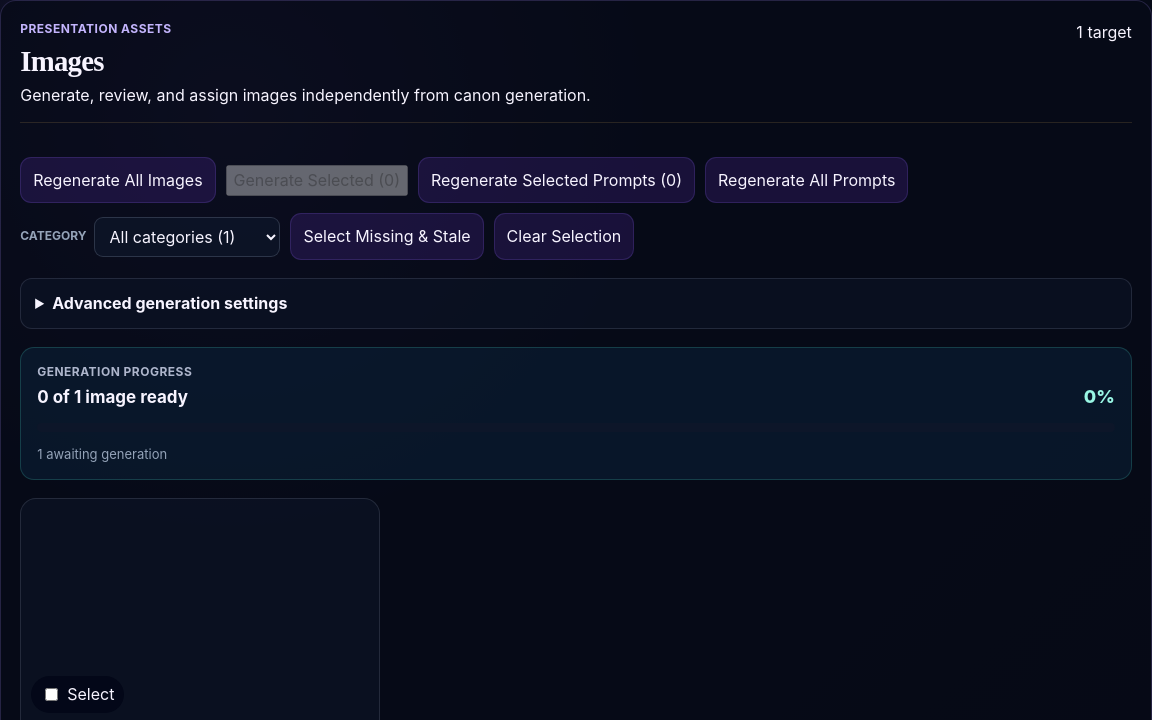
Test case: RpgWorldImagesPanel › bulk selects missing targets and queues independent image jobs
Expected: the text "1 awaiting generation" is shown, 37,444 -> 167,464
Expected: the dropdown named "Image category" shows "All categories (1)", 94,217 -> 280,257
Click the button "Select Missing & Stale" at (387, 237), box 290,213 -> 484,260
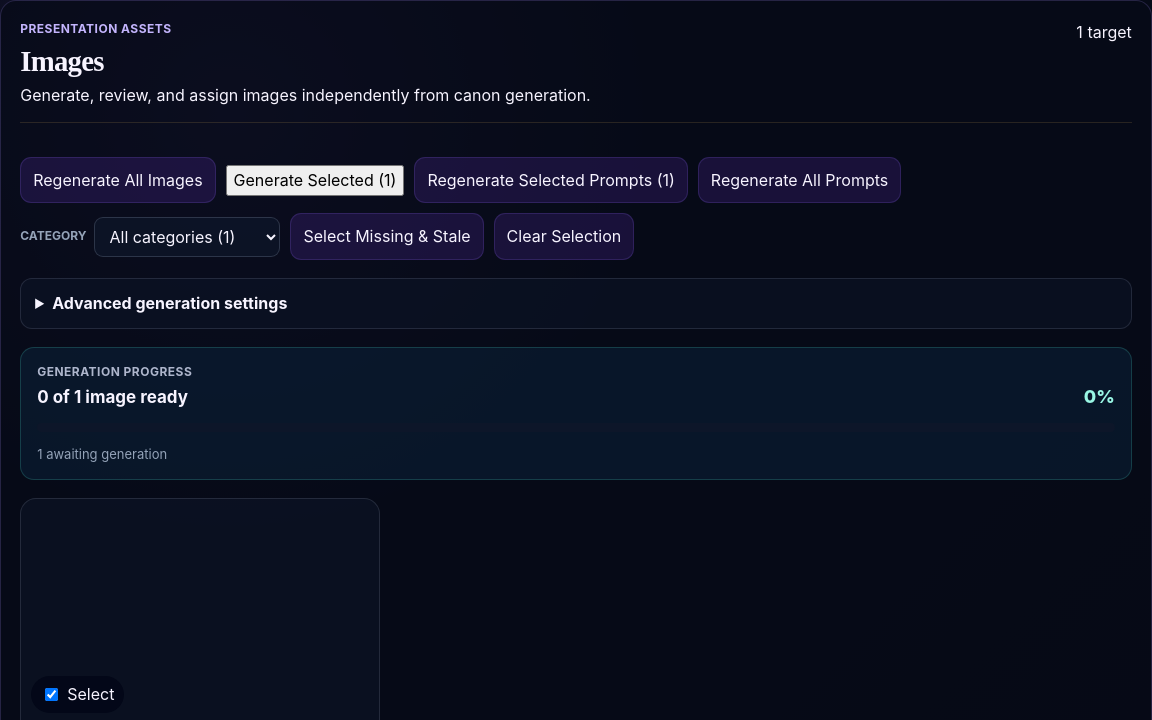
Expected: the button "Generate Selected (1)" is enabled, 226,165 -> 404,196
Click the heading "Advanced generation settings" at (170, 303), box 52,293 -> 287,313
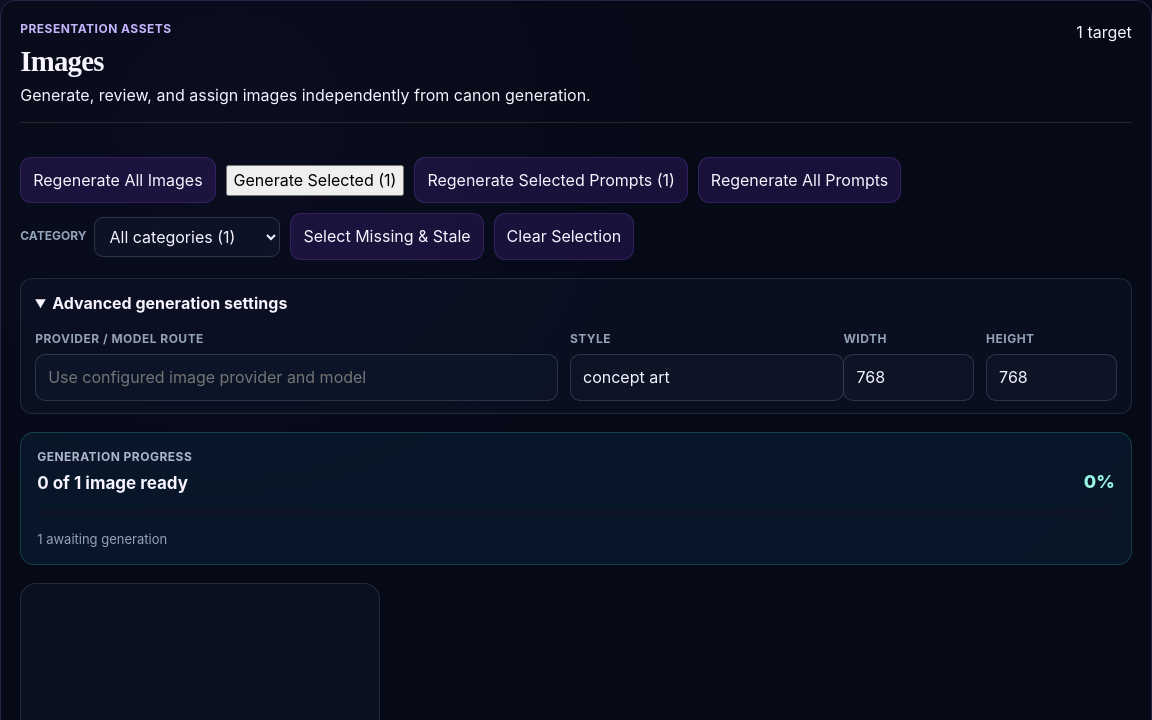
Type "image:flux-klein" into the field named "Image provider route" at (297, 378), box 35,354 -> 558,401
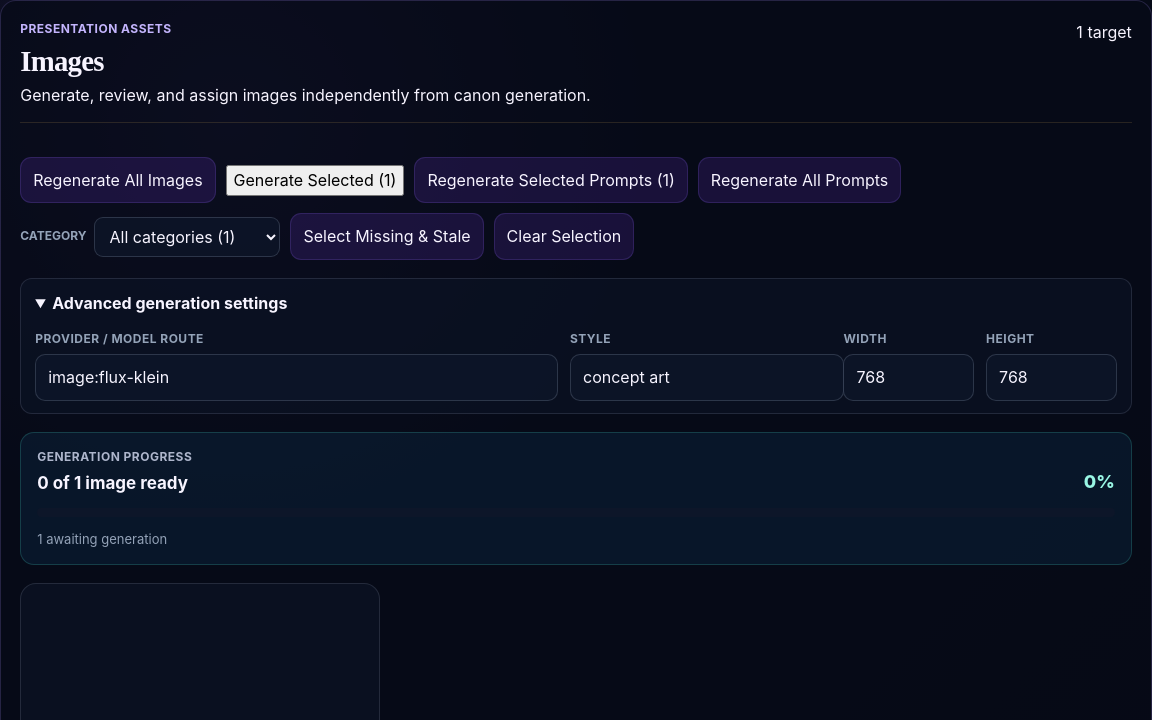
Click the button "Generate Selected (1)" at (315, 180), box 226,165 -> 404,196
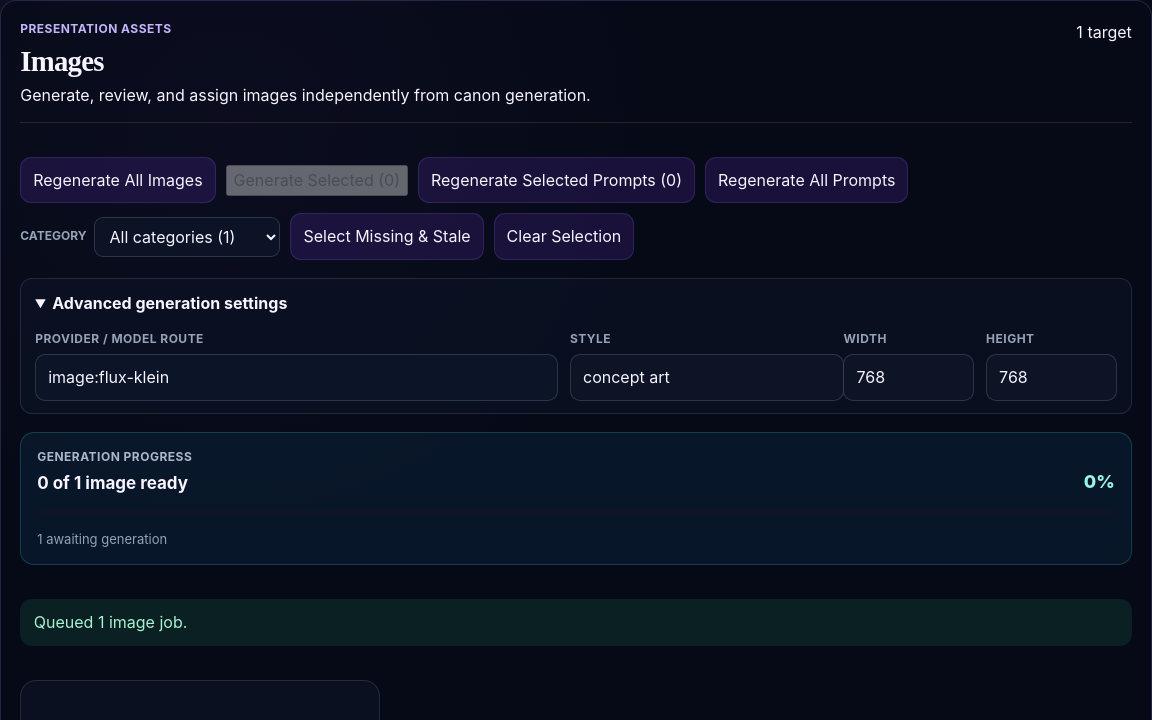
Expected: the text "Queued 1 image job." is shown, 20,599 -> 1132,646
